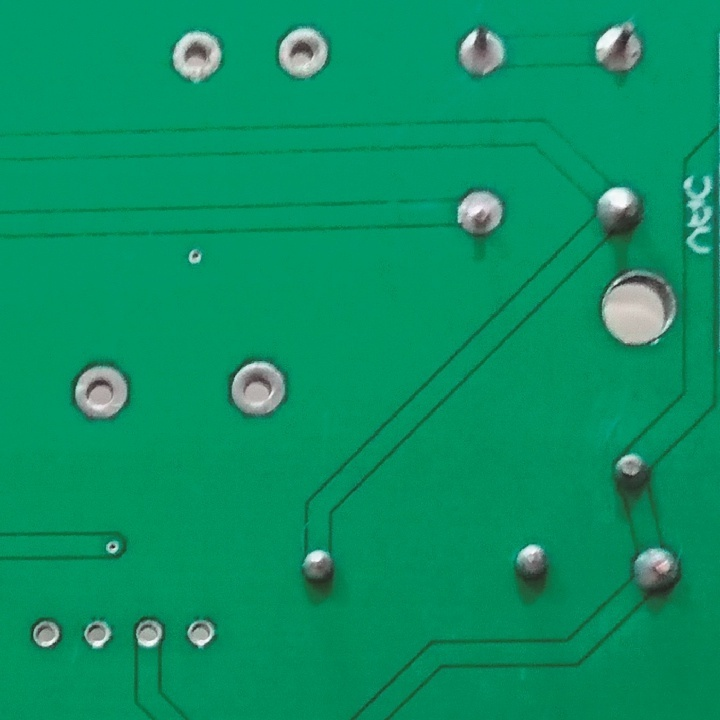F: (70, 360, 134, 426), (227, 357, 291, 421), (450, 180, 513, 245), (273, 24, 334, 83), (593, 15, 648, 80), (450, 23, 511, 79), (167, 28, 228, 83), (24, 616, 68, 651), (132, 614, 169, 655), (183, 614, 220, 654), (80, 617, 117, 651)
